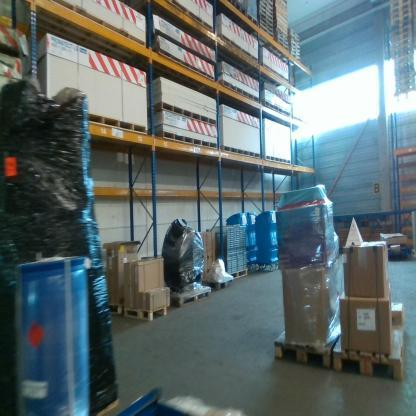pallets: (83, 113, 301, 169), (273, 333, 405, 383), (108, 298, 169, 321), (203, 268, 248, 292), (169, 287, 211, 308), (230, 268, 247, 279)
